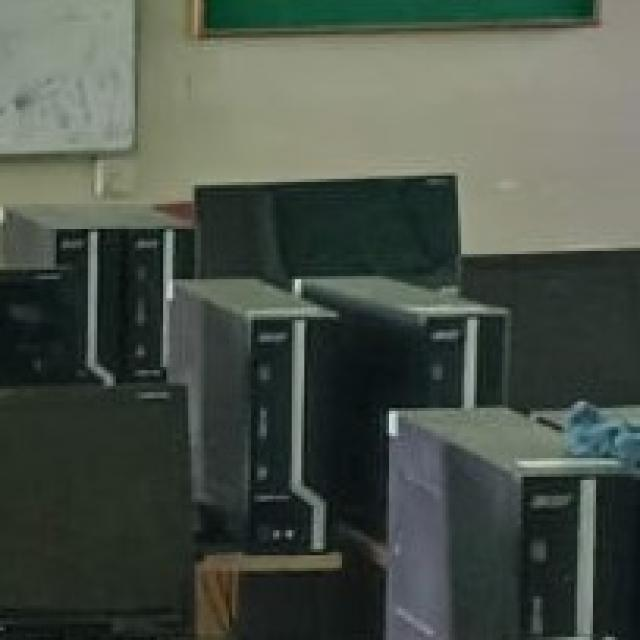offscreen: (0, 389, 188, 611), (462, 251, 640, 408), (199, 178, 454, 278)
